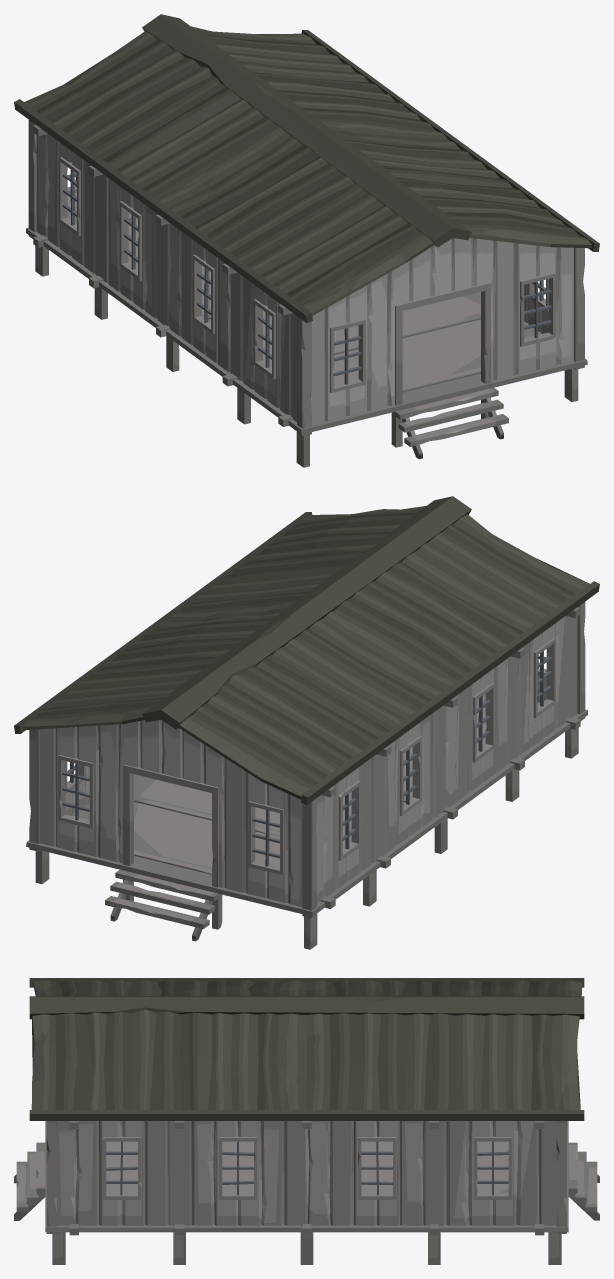
Rendered from SM_Bld_Barracks_01.fbx.
3 views of the same model, one above another, from view 1: azimuth 30°, elevation 25°; view 2: azimuth 150°, elevation 25°; view 3: azimuth 270°, elevation 25° (orthographic). The views are drawn at different scales.
Parts seen in each view (by area): view 1: SM_Bld_Barracks_01; view 2: SM_Bld_Barracks_01; view 3: SM_Bld_Barracks_01.
Part boxes in pixels (box(x1,y1,x2,y2)): SM_Bld_Barracks_01: box(14, 14, 599, 467); SM_Bld_Barracks_01: box(14, 496, 599, 949); SM_Bld_Barracks_01: box(14, 978, 599, 1264).
Size of the model in its own units: 743 by 514 by 1336.
